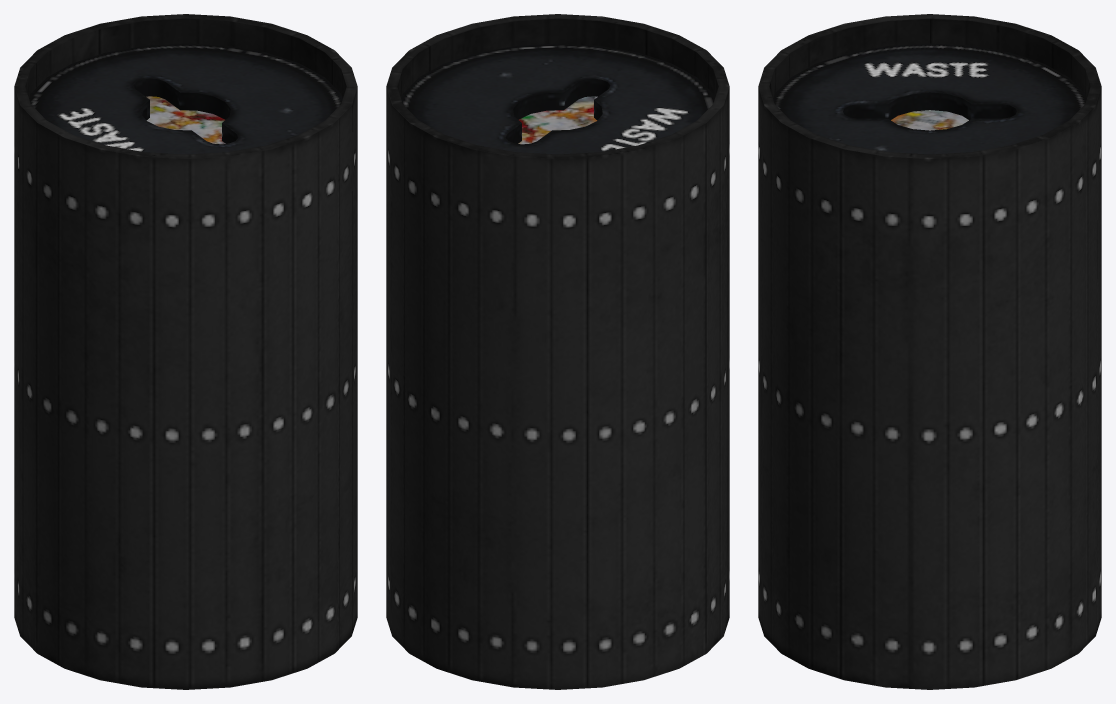
Rendered from MB_Urn_03.fbx.
The picture shows the model from 3 angles, left to right: view 1: azimuth 30°, elevation 25°; view 2: azimuth 150°, elevation 25°; view 3: azimuth 270°, elevation 25°; orthographic projection.
Parts seen in each view (by area): view 1: MB_Urn_03_LOD0; view 2: MB_Urn_03_LOD0; view 3: MB_Urn_03_LOD0.
Part boxes in pixels (left/top/right/bottom): MB_Urn_03_LOD0: left=14, top=14, right=357, bottom=689; MB_Urn_03_LOD0: left=386, top=14, right=729, bottom=689; MB_Urn_03_LOD0: left=758, top=14, right=1101, bottom=689.
Size of what is drawn, in the model's own units: 37.88 by 64.61 by 37.88.
